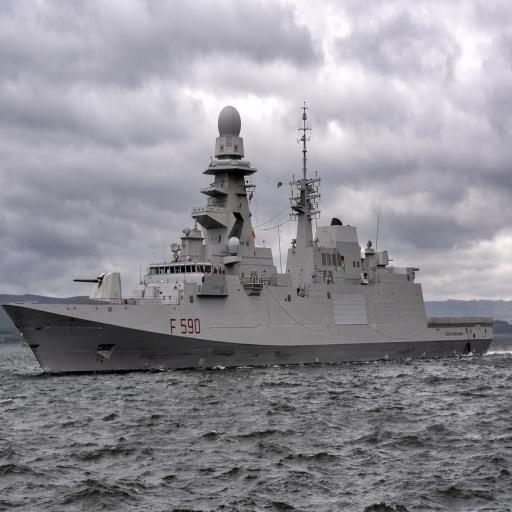Fragata: (2, 101, 503, 376)
